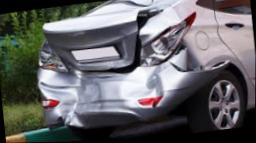Bumper: (41, 59, 229, 128)
Dickey: (42, 4, 165, 76)
Light: (141, 12, 195, 66)
